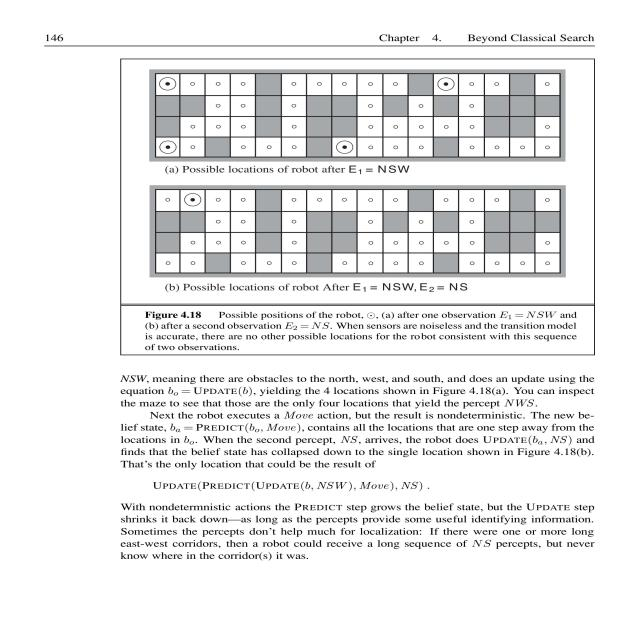diagram: (110, 51, 599, 364)
